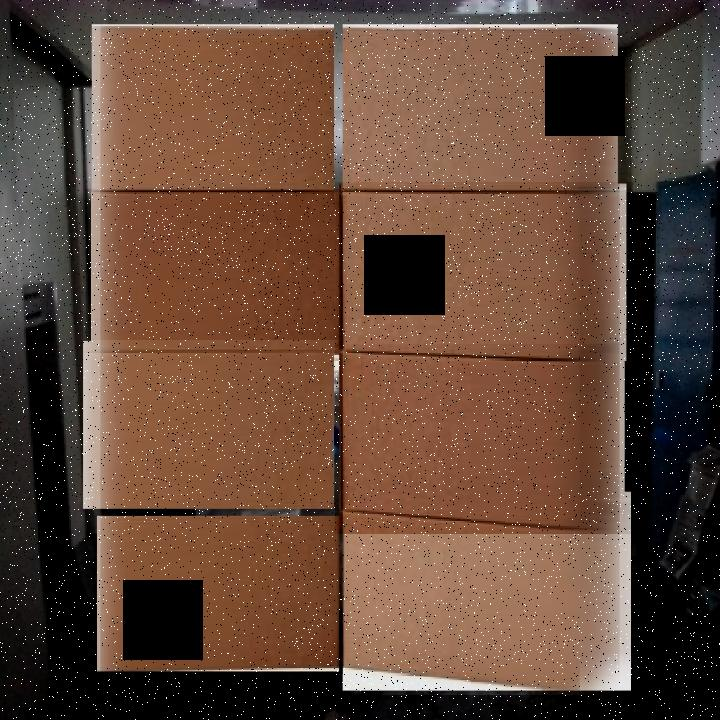box: (338, 489, 636, 695), (335, 344, 631, 534), (335, 182, 633, 362), (339, 22, 623, 198), (88, 22, 340, 198), (81, 340, 338, 512), (86, 189, 347, 358), (94, 515, 344, 674)
